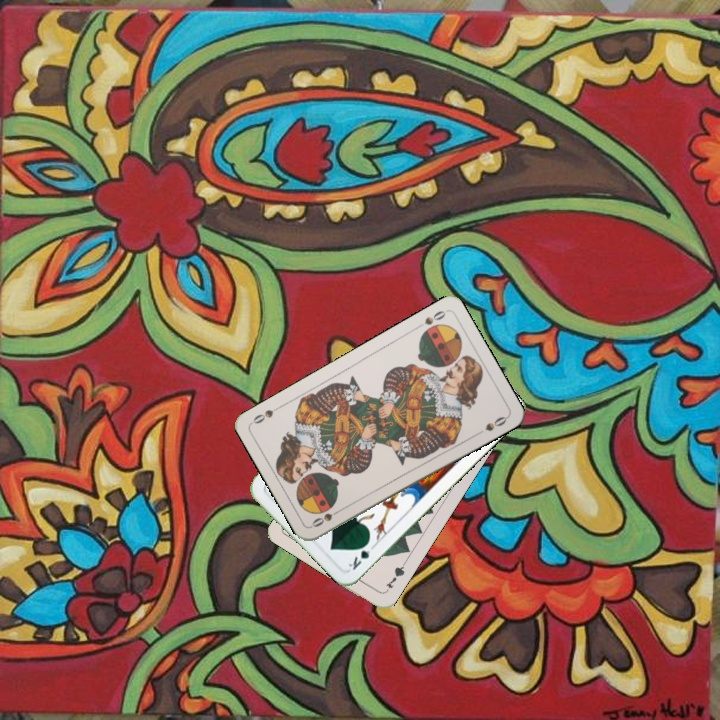G7: (381, 559, 408, 595)
GK: (344, 537, 378, 573)
SO: (308, 504, 345, 530), (411, 306, 448, 331)
